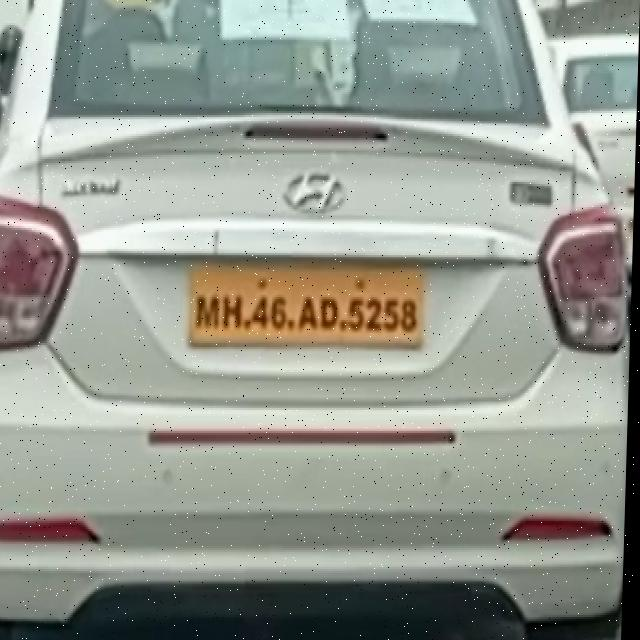plate: (187, 262, 429, 350)
